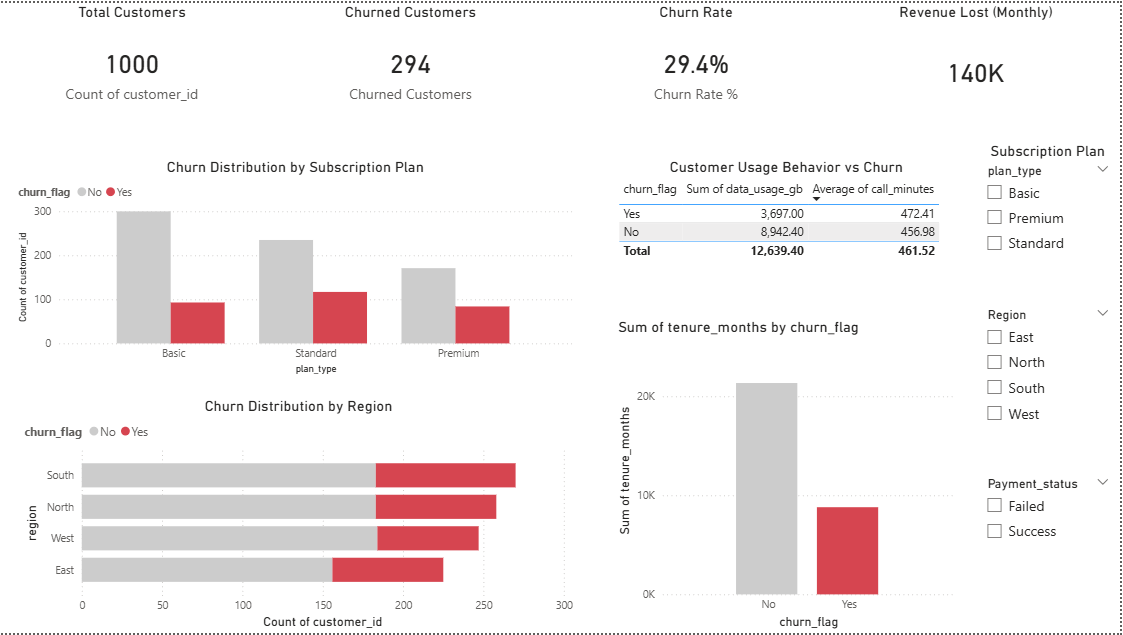

Layout of this report page (visuals, bound fields, positions):
{"tool":"powerbi","page":{"name":"Page 1","canvas":[1280,720],"ordinal":0},"visuals":[{"type":"card","title":"Total Customers","fields":{"Values":["CountNonNull(churn_analysis customer_master.customer_id)"]},"box":[0,0,301.9,138.6],"z":0},{"type":"card","title":"Churned Customers","fields":{"Values":["churn_analysis customer_master.Churned Customers"]},"box":[312,0,315.6,138.6],"z":1000},{"type":"card","title":"Churn Rate","fields":{"Values":["churn_analysis customer_master.Churn Rate %"]},"box":[638.1,0,314.2,138.6],"z":2000},{"type":"card","title":"Revenue Lost (Monthly)","fields":{"Values":["churn_analysis customer_master.Revenue Lost"]},"box":[961.9,0,307.4,138.6],"z":3000},{"type":"clusteredColumnChart","title":"Churn Distribution by Subscription Plan","fields":{"Category":["churn_analysis customer_master.plan_type"],"Y":["CountNonNull(churn_analysis customer_master.customer_id)"],"Series":["churn_analysis customer_master.churn_flag"]},"box":[15.2,177.2,643.6,251.9],"z":4000},{"type":"barChart","title":"Churn Distribution by Region","fields":{"Category":["churn_analysis customer_master.region"],"Y":["CountNonNull(churn_analysis customer_master.customer_id)"],"Series":["churn_analysis customer_master.churn_flag"]},"box":[22.1,449.8,636.7,269.9],"z":5000},{"type":"tableEx","title":"Customer Usage Behavior vs Churn","fields":{"Values":["churn_analysis customer_master.churn_flag","Sum(churn_analysis customer_master.data_usage_gb)","Avg(churn_analysis customer_master.call_minutes)"]},"box":[701.7,177.2,394.5,182.7],"z":6000},{"type":"slicer","title":"Subscription Plan","fields":{"Values":["churn_analysis customer_master.plan_type"]},"box":[1115.6,159.2,163.3,184.1],"z":7000},{"type":"slicer","fields":{"Values":["churn_analysis customer_master.region"]},"box":[1115.6,343.3,163.3,171.6],"z":8000},{"type":"slicer","fields":{"Values":["churn_analysis customer_master.payment_status"]},"box":[1115.6,535.6,163.3,184.1],"z":9000},{"type":"clusteredColumnChart","fields":{"Category":["churn_analysis churn_summary.churn_flag"],"Y":["Sum(churn_analysis customer_master.tenure_months)"]},"box":[701.7,359.9,394.5,359.9],"z":10000}]}

Visuals, with their boxes in screenshot pixels (x1, y1, x2, y2), scaled from the page's 1280x720 canvas onto the 1123x635 screenshot:
"Total Customers" card: [left=0, top=0, right=265, bottom=122]
"Churned Customers" card: [left=274, top=0, right=551, bottom=122]
"Churn Rate" card: [left=560, top=0, right=835, bottom=122]
"Revenue Lost (Monthly)" card: [left=844, top=0, right=1114, bottom=122]
"Churn Distribution by Subscription Plan" clusteredColumnChart: [left=13, top=156, right=578, bottom=378]
"Churn Distribution by Region" barChart: [left=19, top=397, right=578, bottom=634]
"Customer Usage Behavior vs Churn" tableEx: [left=616, top=156, right=962, bottom=317]
"Subscription Plan" slicer: [left=979, top=140, right=1122, bottom=303]
slicer - churn_analysis customer_master.region: [left=979, top=303, right=1122, bottom=454]
slicer - churn_analysis customer_master.payment_status: [left=979, top=472, right=1122, bottom=634]
clusteredColumnChart - churn_analysis churn_summary.churn_flag x Sum(churn_analysis customer_master.tenure_months): [left=616, top=317, right=962, bottom=634]
